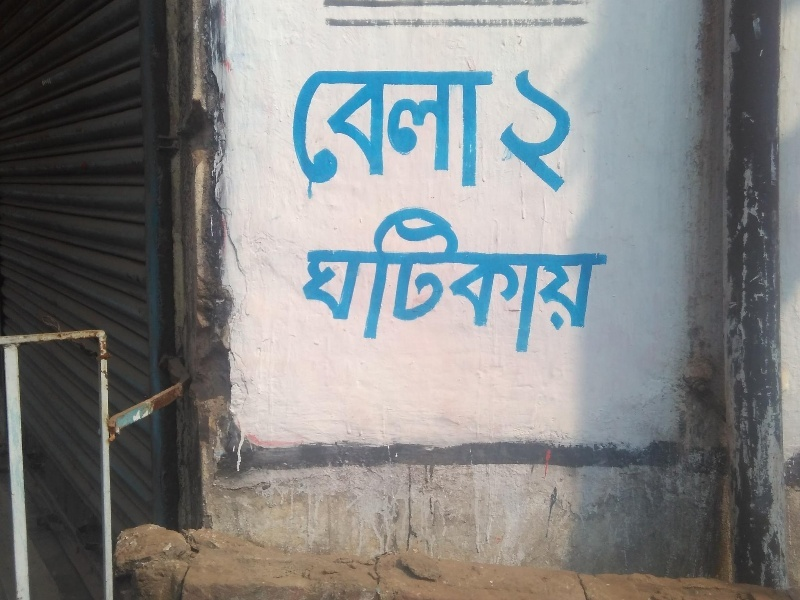text: (321, 209, 336, 359), (337, 209, 352, 359), (353, 209, 368, 359), (369, 209, 384, 359), (385, 209, 400, 359), (401, 209, 416, 359), (417, 209, 432, 359), (433, 209, 448, 359), (449, 209, 464, 359), (465, 209, 480, 359), (481, 209, 496, 359), (497, 209, 512, 359), (513, 209, 528, 359), (529, 209, 544, 359), (545, 209, 560, 359), (561, 209, 576, 359), (577, 209, 592, 359), (593, 209, 608, 359), (481, 69, 497, 193), (513, 65, 528, 195), (529, 65, 544, 195), (545, 65, 560, 195), (561, 65, 576, 195), (305, 69, 320, 193), (321, 69, 336, 193), (337, 69, 352, 193), (353, 69, 368, 193), (369, 69, 384, 193), (385, 69, 400, 193), (401, 69, 416, 193), (417, 69, 432, 193), (433, 69, 448, 193), (449, 69, 464, 193), (465, 69, 480, 193), (290, 69, 304, 193), (309, 209, 320, 359), (508, 65, 512, 195), (609, 209, 611, 359), (577, 65, 579, 195)
